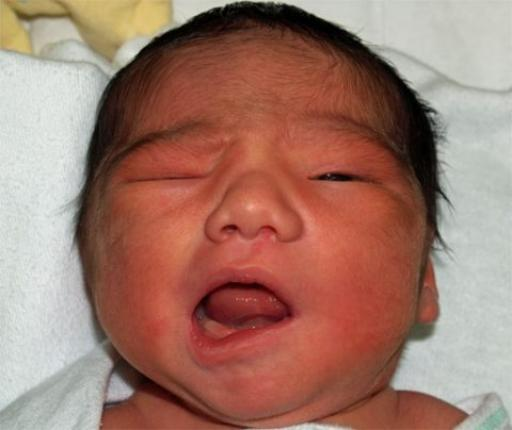left_eye: (307, 170, 367, 188)
left_lip_corner: (289, 305, 312, 323)
right_eye: (124, 167, 210, 189)
right_lip_corner: (175, 299, 206, 331)
